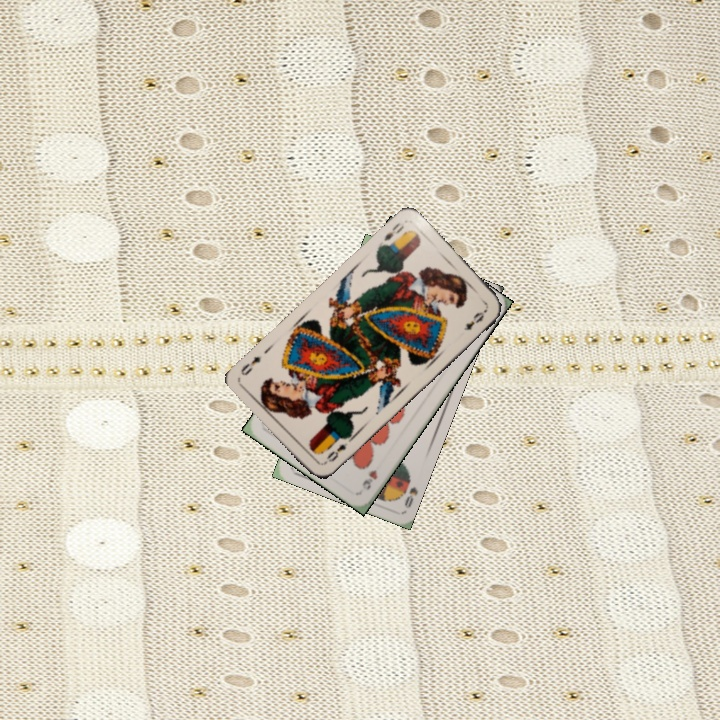EO: (320, 439, 350, 467), (380, 218, 407, 244)
H9: (358, 466, 380, 492)
SO: (397, 471, 420, 511)
